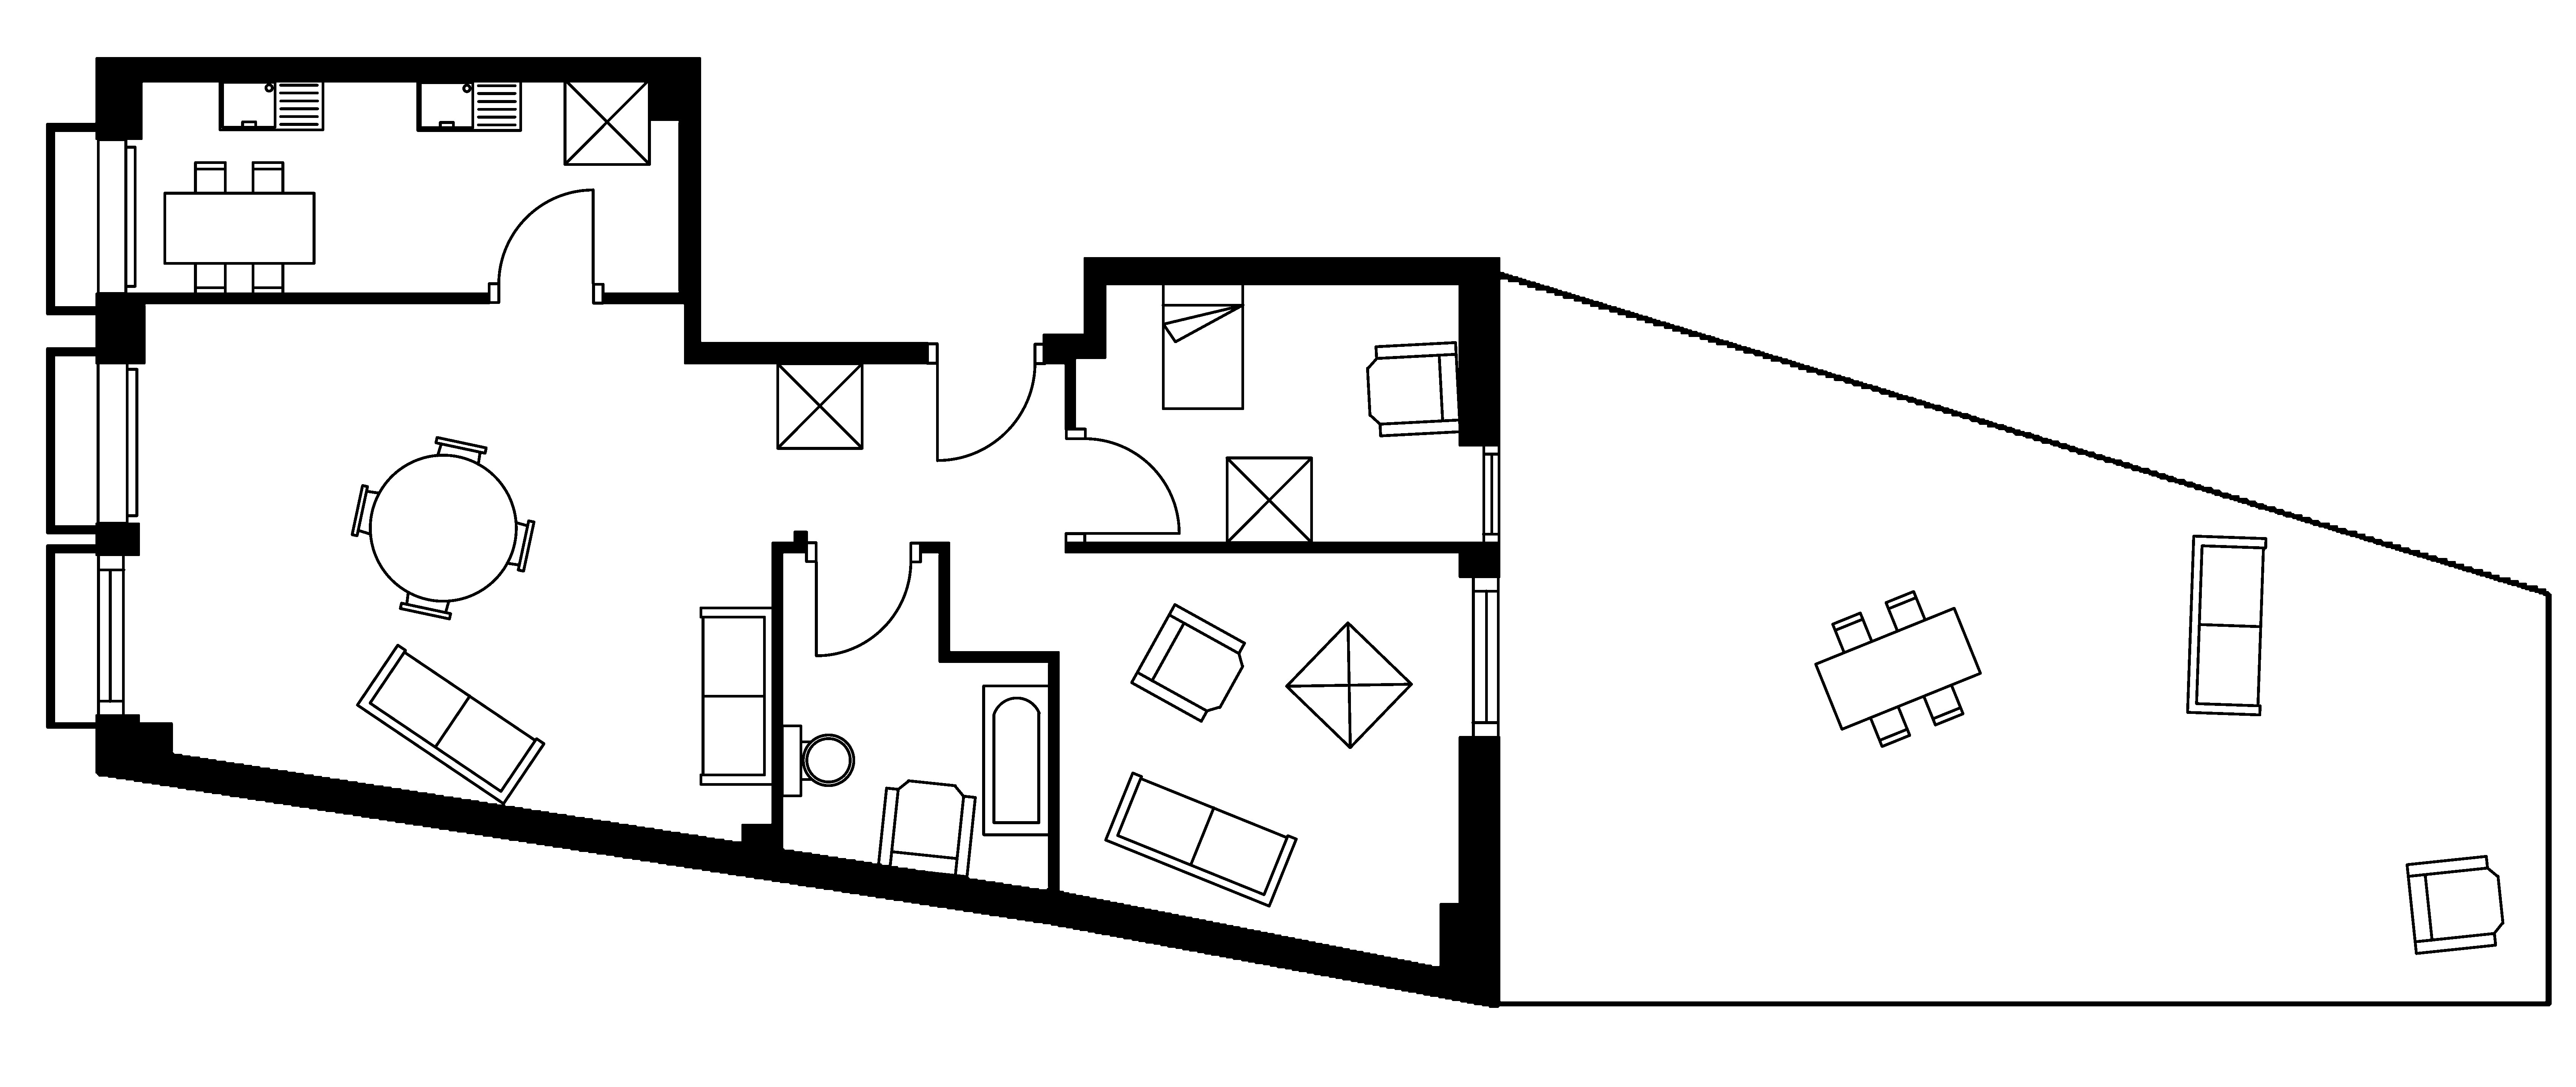armchair: (1129, 602, 1245, 724), (876, 778, 977, 878), (2405, 853, 2504, 955), (1365, 340, 1462, 437)
bed: (1161, 280, 1245, 411)
coffee_table: (1285, 620, 1413, 750), (562, 77, 651, 166), (775, 362, 864, 451), (1224, 456, 1313, 544)
dining_table: (1814, 589, 1981, 748), (163, 160, 315, 296)
large_sink: (780, 724, 854, 798)
large_sofa: (355, 643, 545, 806), (1104, 771, 1298, 908), (2185, 534, 2267, 717), (698, 605, 774, 786)
round_table: (350, 436, 536, 620)
sink: (416, 77, 522, 132), (218, 77, 324, 132)
tub: (981, 684, 1051, 837)
